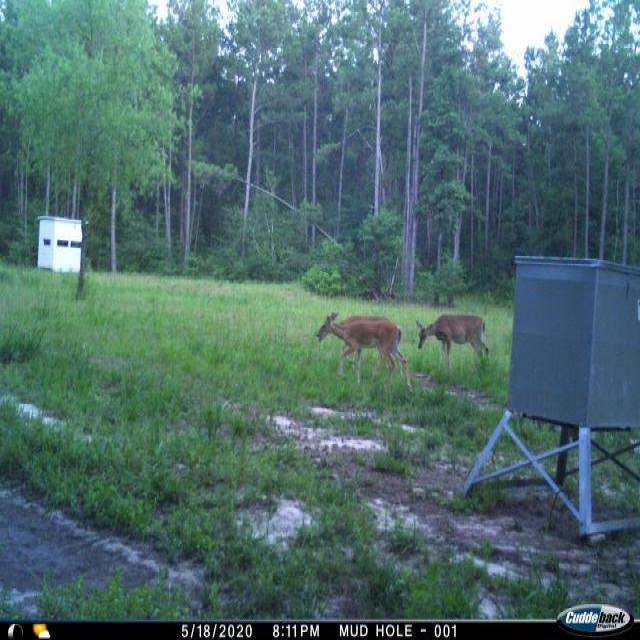deer: (316, 310, 413, 393), (413, 310, 492, 381)
